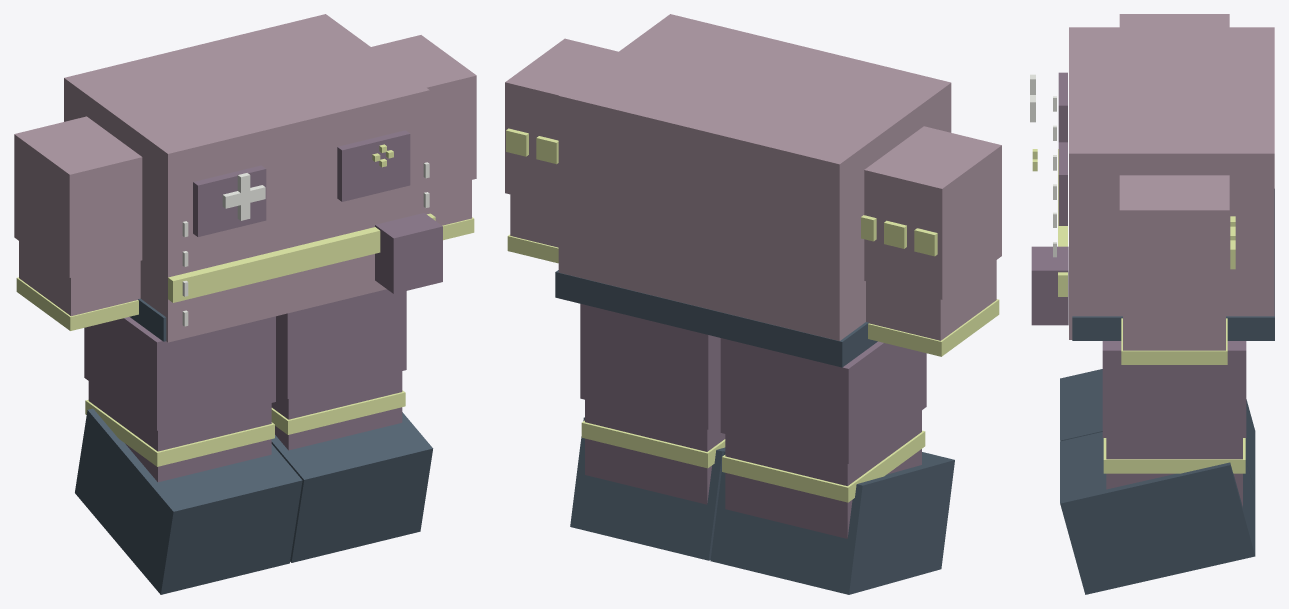
File: paramedic-rose.glb
3 views of the same model, side by side, from view 1: azimuth 30°, elevation 25°; view 2: azimuth 150°, elevation 25°; view 3: azimuth 270°, elevation 25° (orthographic). The views are drawn at different scales.
Parts seen in each view (by area): view 1: jacket, shoe-Right, upper-sleeve-Right, trouser-Right, shoe-Left, trouser-Left, upper-sleeve-Left, lower-trouser-Right, reflective-band, lower-trouser-Left, lower-sleeve-Right, medical-pouch (+8 smaller); view 2: jacket, trouser-Right, shoe-Right, upper-sleeve-Right, trouser-Left, lower-trouser-Right, shoe-Left, medical-belt, upper-sleeve-Left, lower-trouser-Left, lower-sleeve-Right, reflective-leg-Right (+4 smaller); view 3: jacket, shoe-Left, upper-sleeve-Left, trouser-Left, lower-sleeve-Left, lower-trouser-Left, shoe-Right, medical-pouch, medical-belt, reflective-leg-Left, cuff-Left, upper-sleeve-Right (+3 smaller).
Part boxes in pixels (bbox=[...]): jacket: bbox=[64, 14, 429, 342]; shoe-Right: bbox=[75, 408, 302, 594]; upper-sleeve-Right: bbox=[14, 116, 142, 277]; trouser-Right: bbox=[84, 316, 275, 430]; shoe-Left: bbox=[271, 412, 433, 562]; trouser-Left: bbox=[276, 289, 406, 398]; upper-sleeve-Left: bbox=[371, 35, 476, 189]; lower-trouser-Right: bbox=[88, 381, 271, 482]; reflective-band: bbox=[168, 213, 435, 302]; lower-trouser-Left: bbox=[271, 371, 402, 450]; lower-sleeve-Right: bbox=[19, 241, 140, 316]; medical-pouch: bbox=[375, 213, 442, 293]; jacket: bbox=[558, 14, 951, 340]; trouser-Right: bbox=[720, 338, 926, 463]; shoe-Right: bbox=[710, 451, 954, 594]; upper-sleeve-Right: bbox=[864, 126, 1001, 299]; trouser-Left: bbox=[580, 304, 720, 429]; lower-trouser-Right: bbox=[725, 410, 921, 538]; shoe-Left: bbox=[570, 417, 725, 560]; medical-belt: bbox=[555, 270, 877, 367]; upper-sleeve-Left: bbox=[505, 38, 618, 205]; lower-trouser-Left: bbox=[585, 400, 725, 504]; lower-sleeve-Right: bbox=[866, 260, 996, 340]; reflective-leg-Right: bbox=[722, 430, 925, 502]; jacket: bbox=[1069, 27, 1274, 339]; shoe-Left: bbox=[1060, 432, 1255, 594]; upper-sleeve-Left: bbox=[1119, 175, 1229, 312]; trouser-Left: bbox=[1102, 341, 1246, 437]; lower-sleeve-Left: bbox=[1123, 312, 1225, 350]; lower-trouser-Left: bbox=[1106, 438, 1242, 506]; shoe-Right: bbox=[1060, 369, 1255, 492]; medical-pouch: bbox=[1031, 246, 1068, 325]; medical-belt: bbox=[1072, 189, 1274, 340]; reflective-leg-Left: bbox=[1103, 438, 1245, 473]; cuff-Left: bbox=[1121, 318, 1227, 364]; upper-sleeve-Right: bbox=[1119, 14, 1229, 27].
Size of the model in its own units: 1.07 by 1.13 by 0.566.
